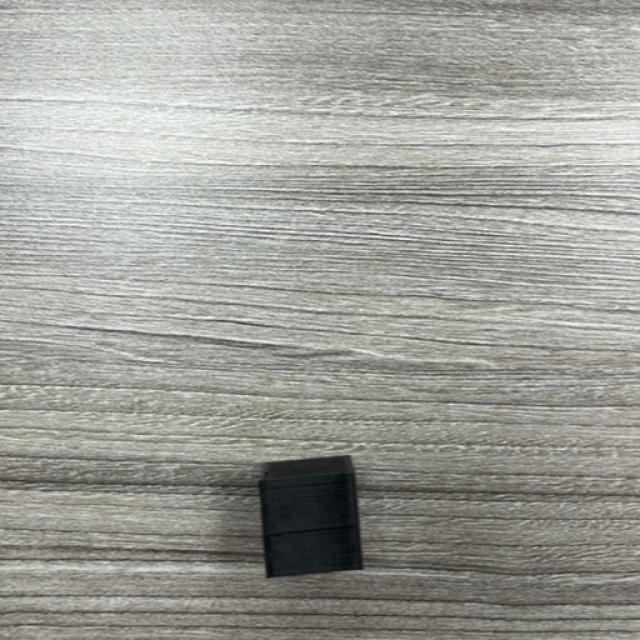Negro: (258, 456, 365, 580)
